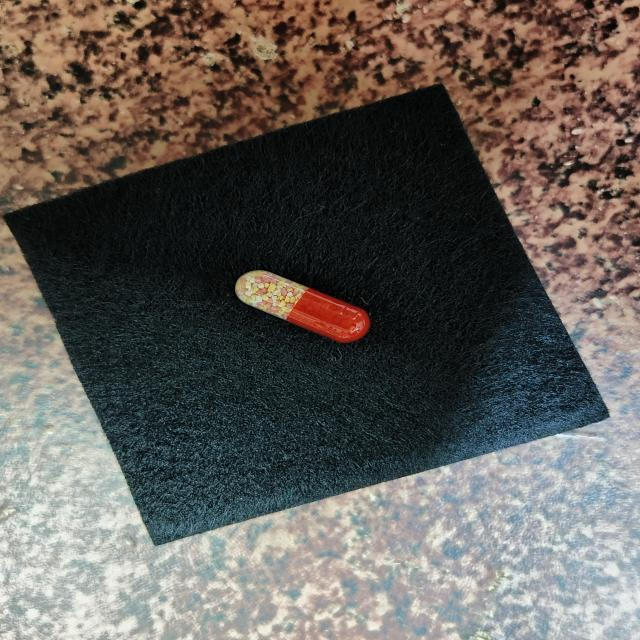Intact Capsule: (235, 270, 370, 343)
